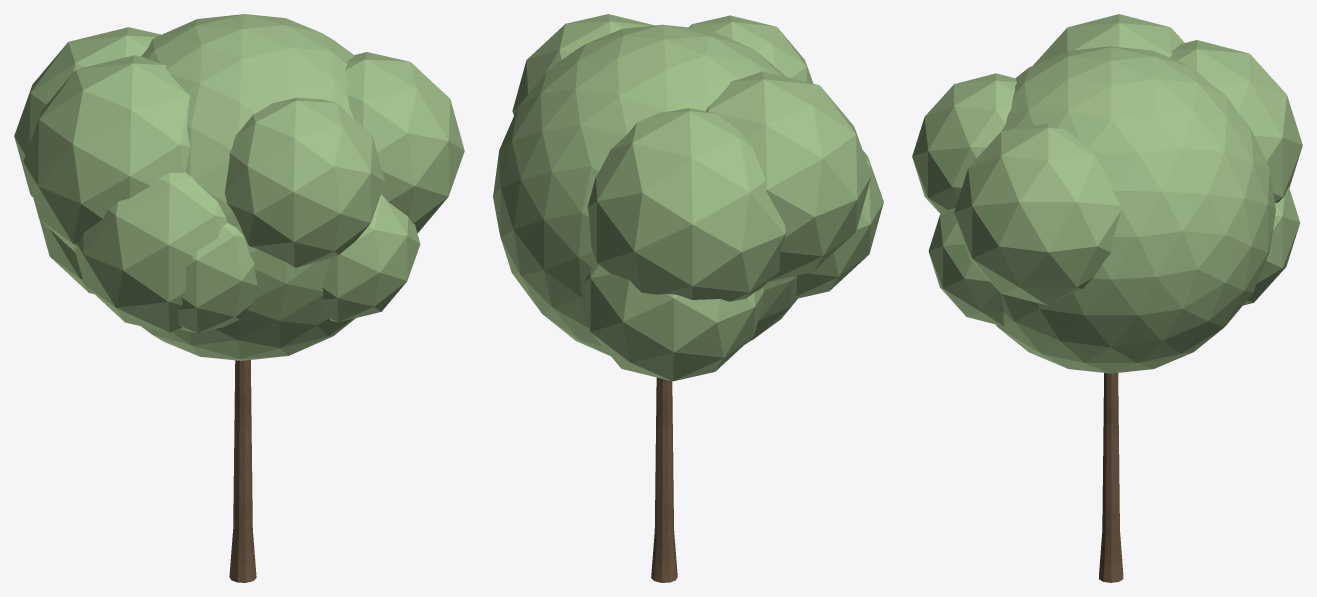
File: tree.glb
3 views of the same model, side by side, from view 1: azimuth 30°, elevation 25°; view 2: azimuth 150°, elevation 25°; view 3: azimuth 270°, elevation 25° (orthographic). The views are drawn at different scales.
Visible parts, largest first — view 1: tree_leaf, tree_bark; view 2: tree_leaf, tree_bark; view 3: tree_leaf, tree_bark.
Boxes of the visible parts, x1,y1,x2,y2 form: tree_leaf: (14, 14, 464, 360); tree_bark: (229, 360, 256, 582); tree_leaf: (493, 14, 883, 381); tree_bark: (651, 377, 677, 582); tree_leaf: (912, 14, 1302, 373); tree_bark: (1099, 373, 1123, 582).
Bounding box in the file's own units: 5.71 × 7.96 × 5.45.
2 materials, 1 textured.
